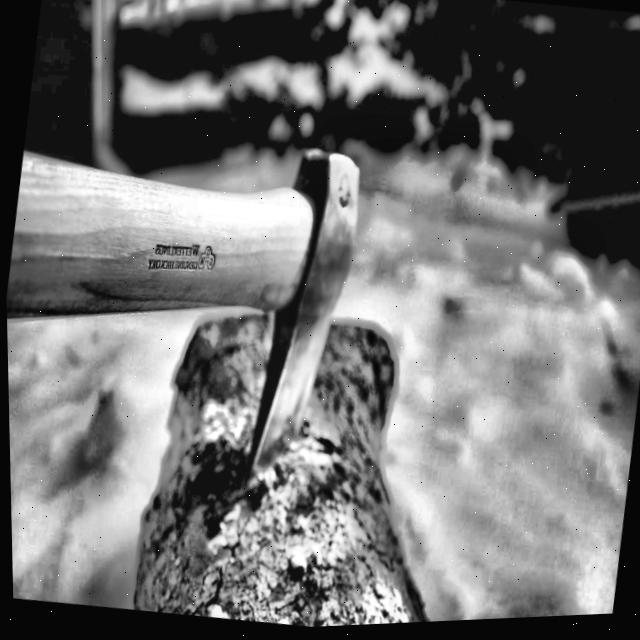kapak: (7, 137, 372, 479)
